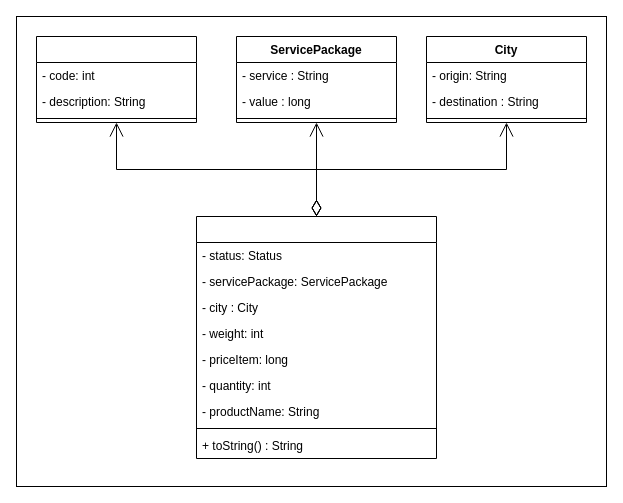
Some shapes in this 623 by 503 pixel diagram are drawn without their labels. Here are the shapes that lost their labels. From the top down, the box of each, then its label:
(36, 36, 196, 122): Status
(196, 216, 436, 458): Pesanan
